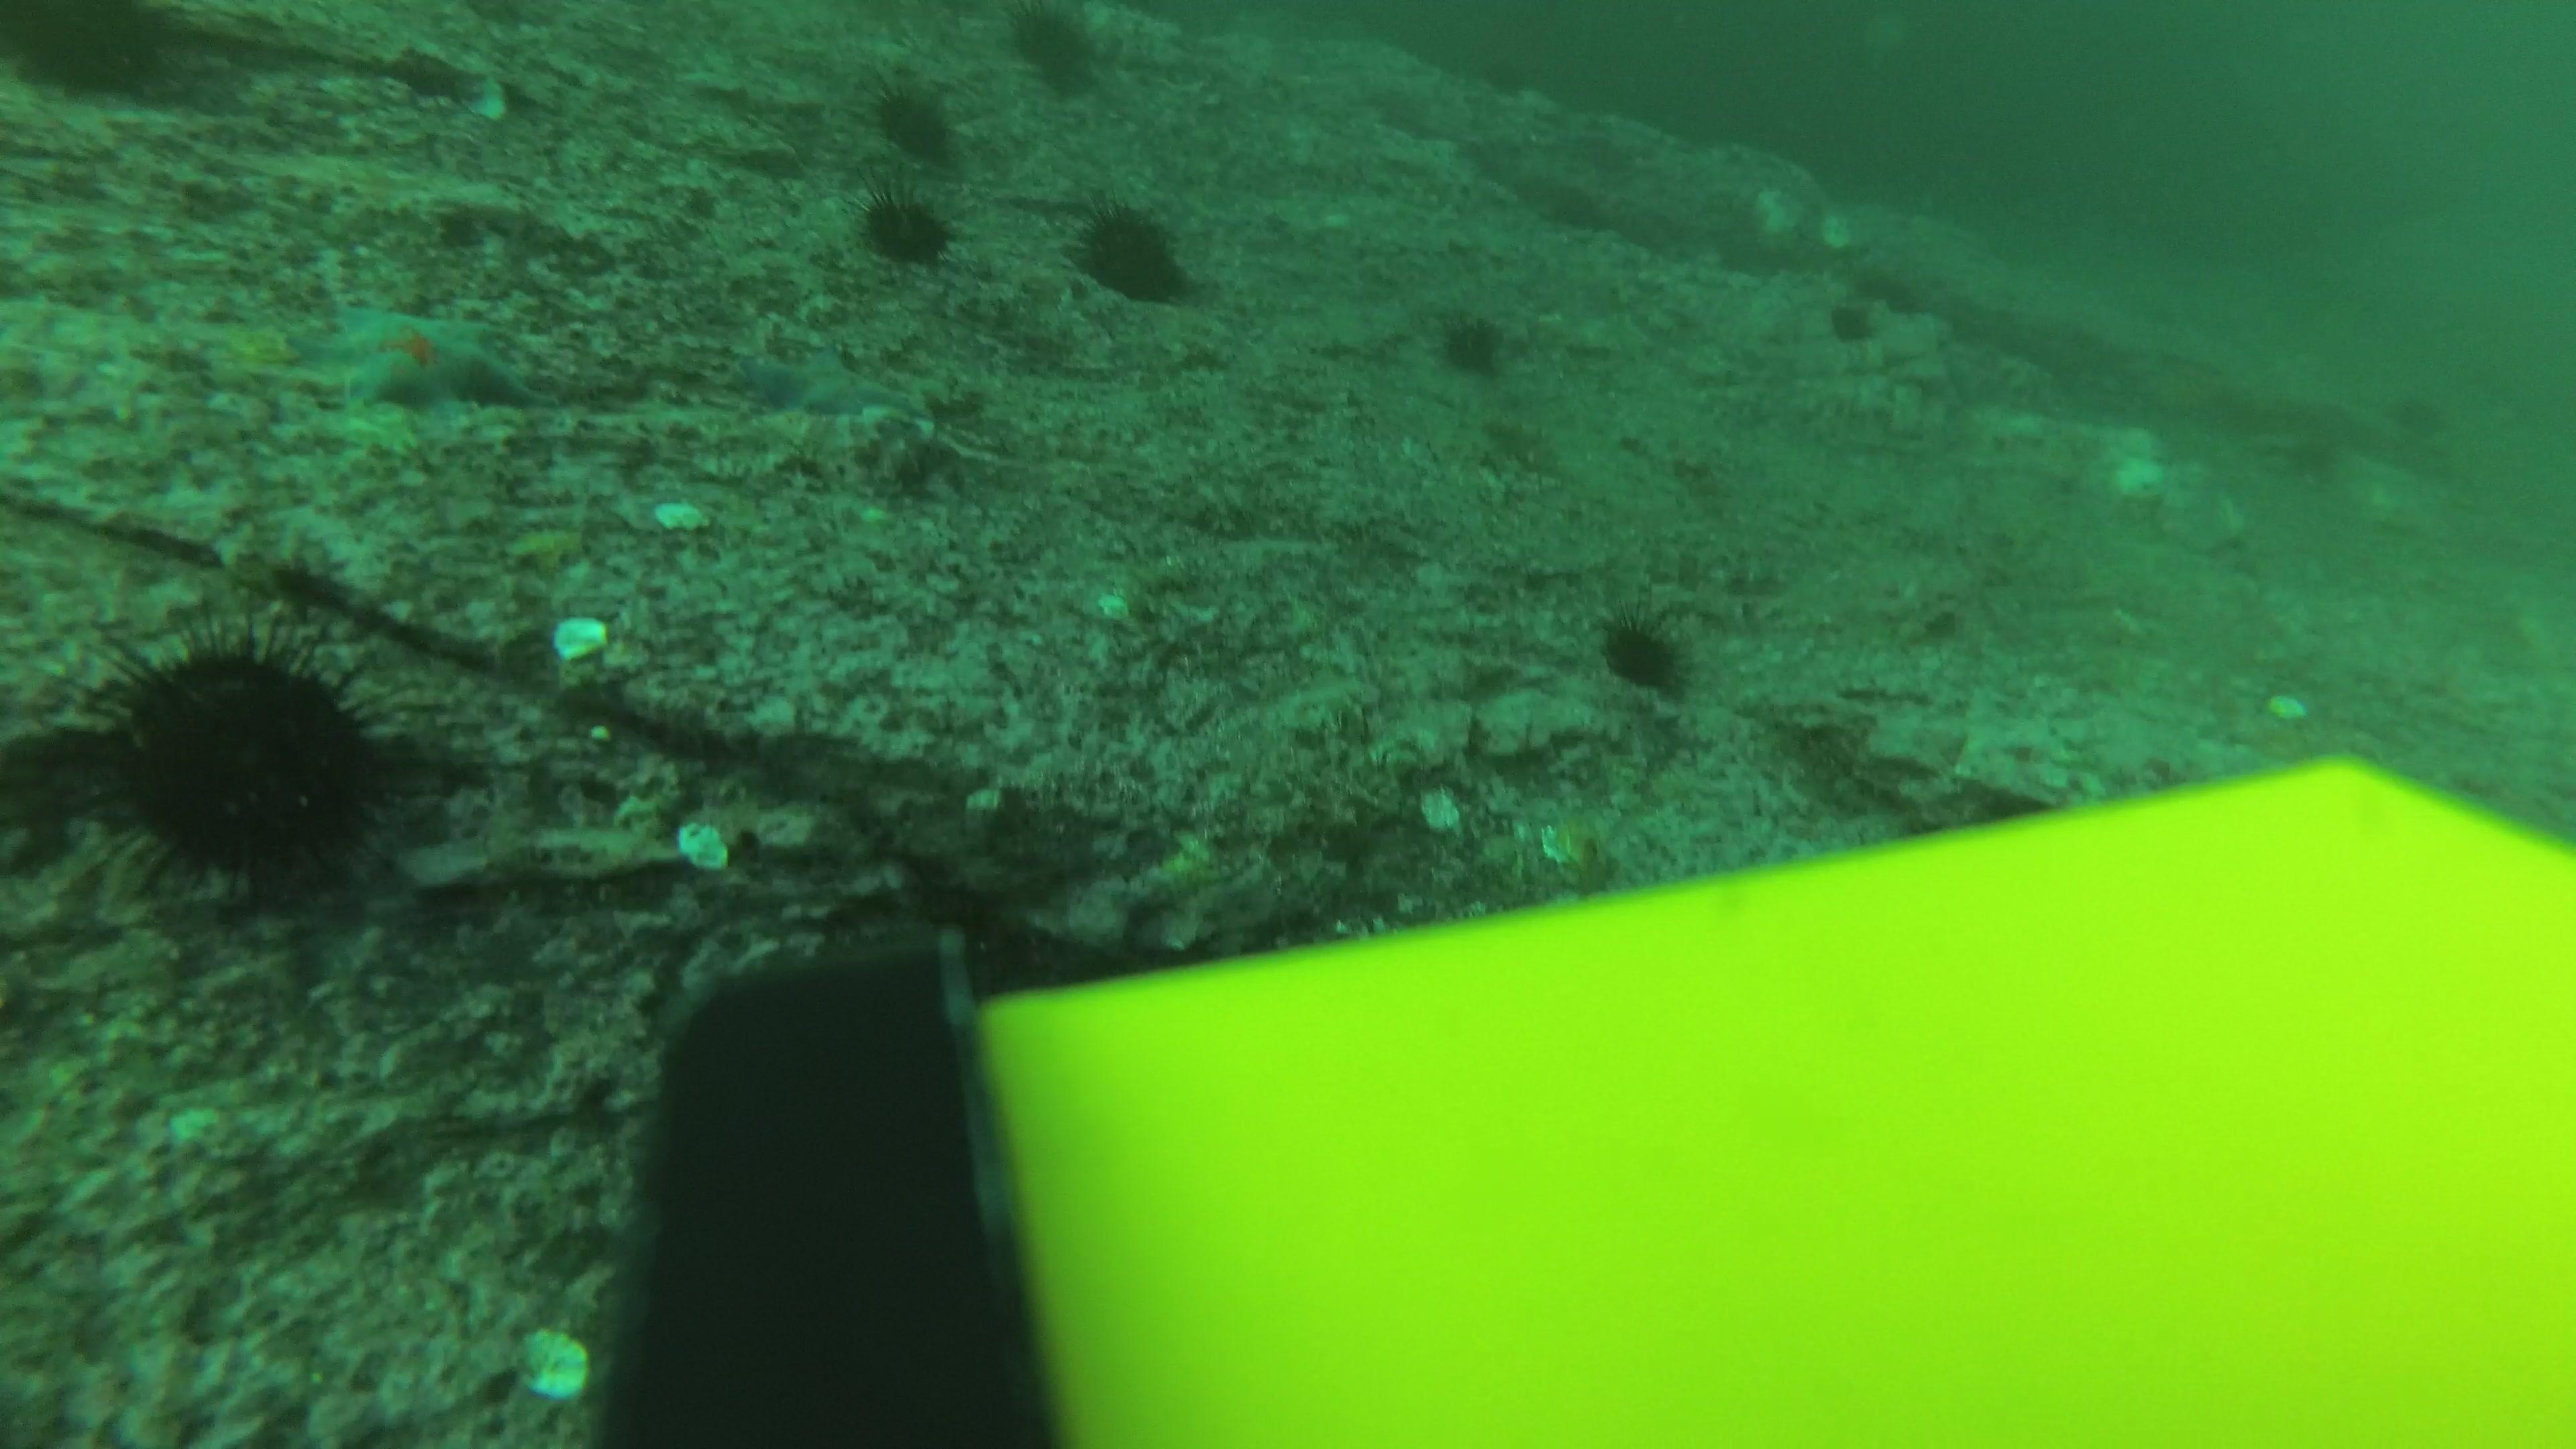echinus: (71, 610, 410, 908), (2, 2, 191, 108), (1069, 198, 1196, 308), (1001, 2, 1111, 97), (1594, 605, 1697, 699), (863, 74, 962, 168), (856, 184, 959, 271), (1431, 306, 1514, 380), (1821, 287, 1888, 347), (2388, 380, 2454, 441), (2304, 410, 2369, 471)
starfish: (294, 295, 545, 419), (725, 341, 925, 425)
